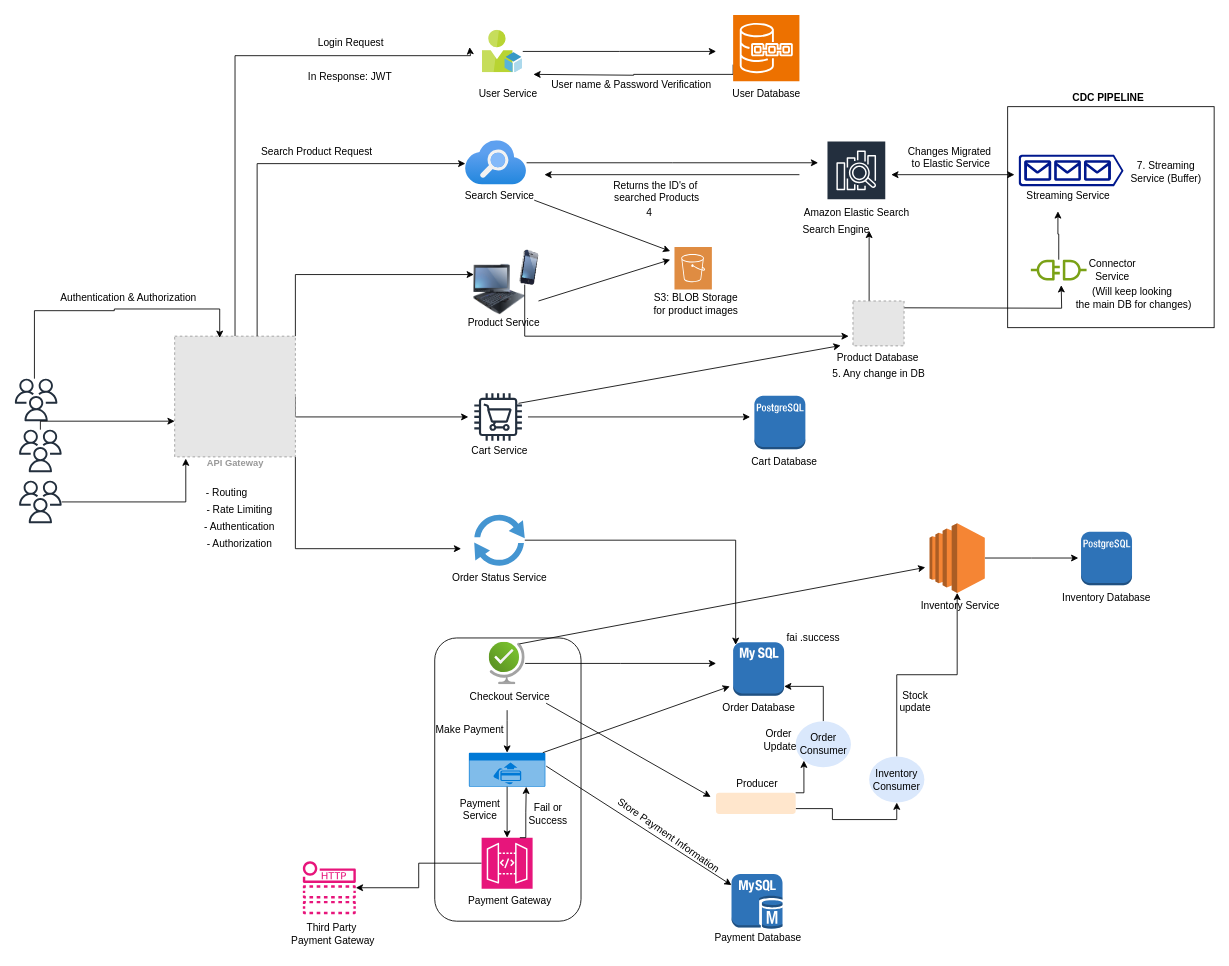
Image size: 1229x966. Some labels were removed from this diagram. Grey dashed boxes stand in for pictures. Here are the shapes that lost their labels. From the top down, the centre of each, then its label:
[506,769]: Payment
[755,802]: KAFKA
